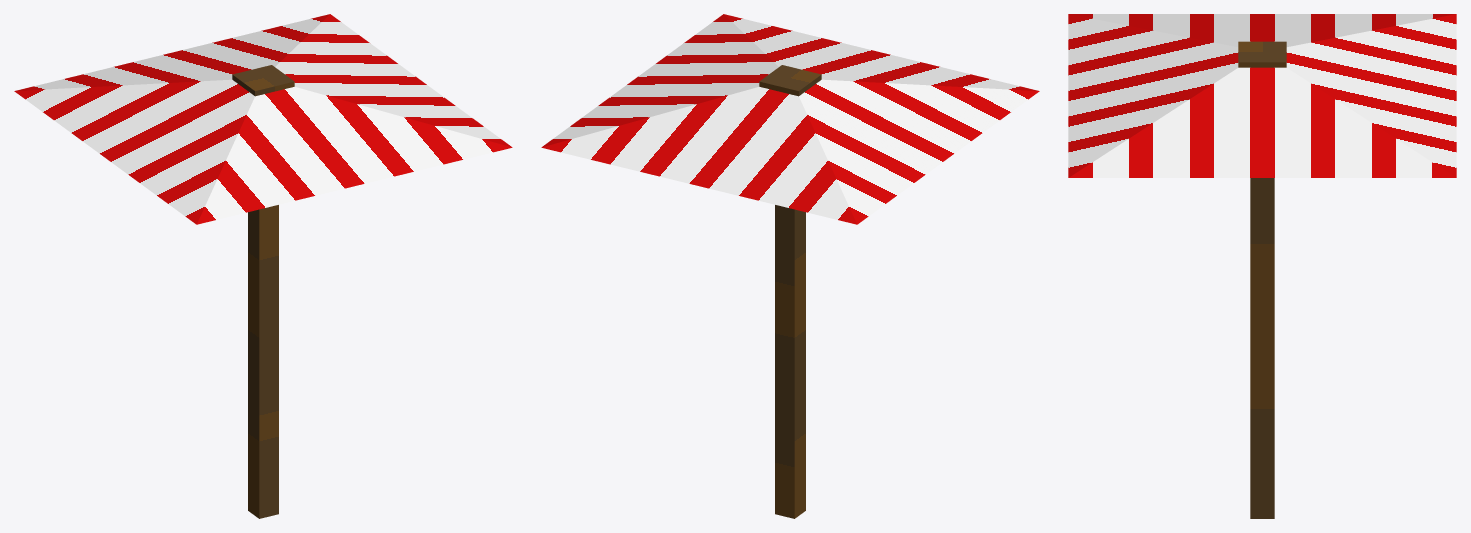
Rendered from parasol.gltf.
3 views of the same model, side by side, from view 1: azimuth 30°, elevation 25°; view 2: azimuth 150°, elevation 25°; view 3: azimuth 270°, elevation 25° (orthographic). The views are drawn at different scales.
Parts seen in each view (by area): view 1: plane, cube (×2); view 2: plane, cube (×2); view 3: plane, cube (×2).
Boxes of the visible parts, x1=… form: plane: x1=14, y1=14, x2=512, y2=224; cube (×2): x1=232, y1=65, x2=294, y2=518; plane: x1=541, y1=14, x2=1039, y2=224; cube (×2): x1=759, y1=65, x2=821, y2=518; plane: x1=1068, y1=14, x2=1456, y2=177; cube (×2): x1=1238, y1=41, x2=1286, y2=518.
Bounding box in the file's own units: 16 × 21 × 16.
1 material, 1 textured.
